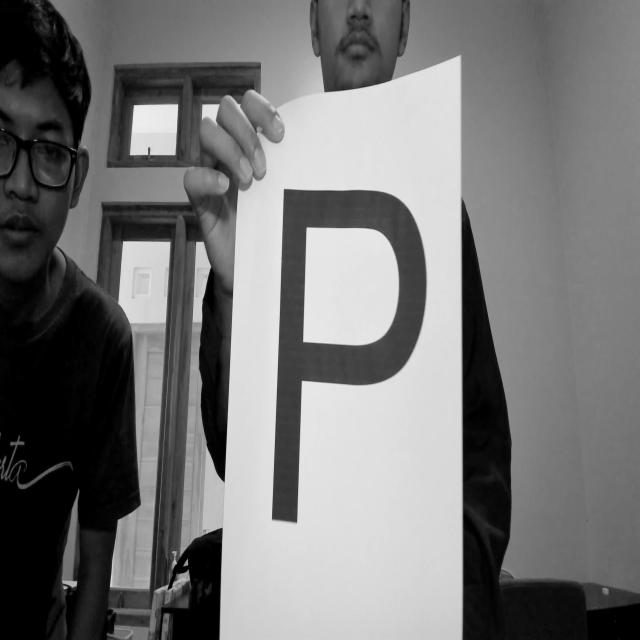p: (252, 179, 453, 535)
